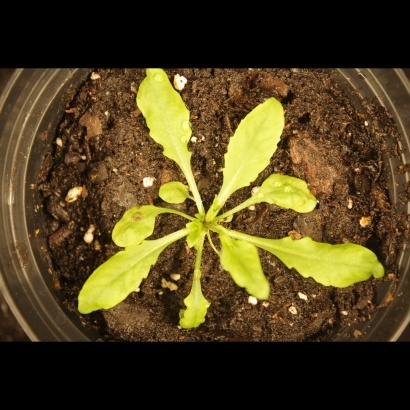leaf: (71, 237, 173, 321), (216, 88, 286, 198), (270, 229, 390, 293), (138, 63, 199, 169), (217, 226, 275, 306), (255, 173, 323, 217), (174, 282, 216, 338), (110, 206, 166, 246), (155, 171, 200, 211)
